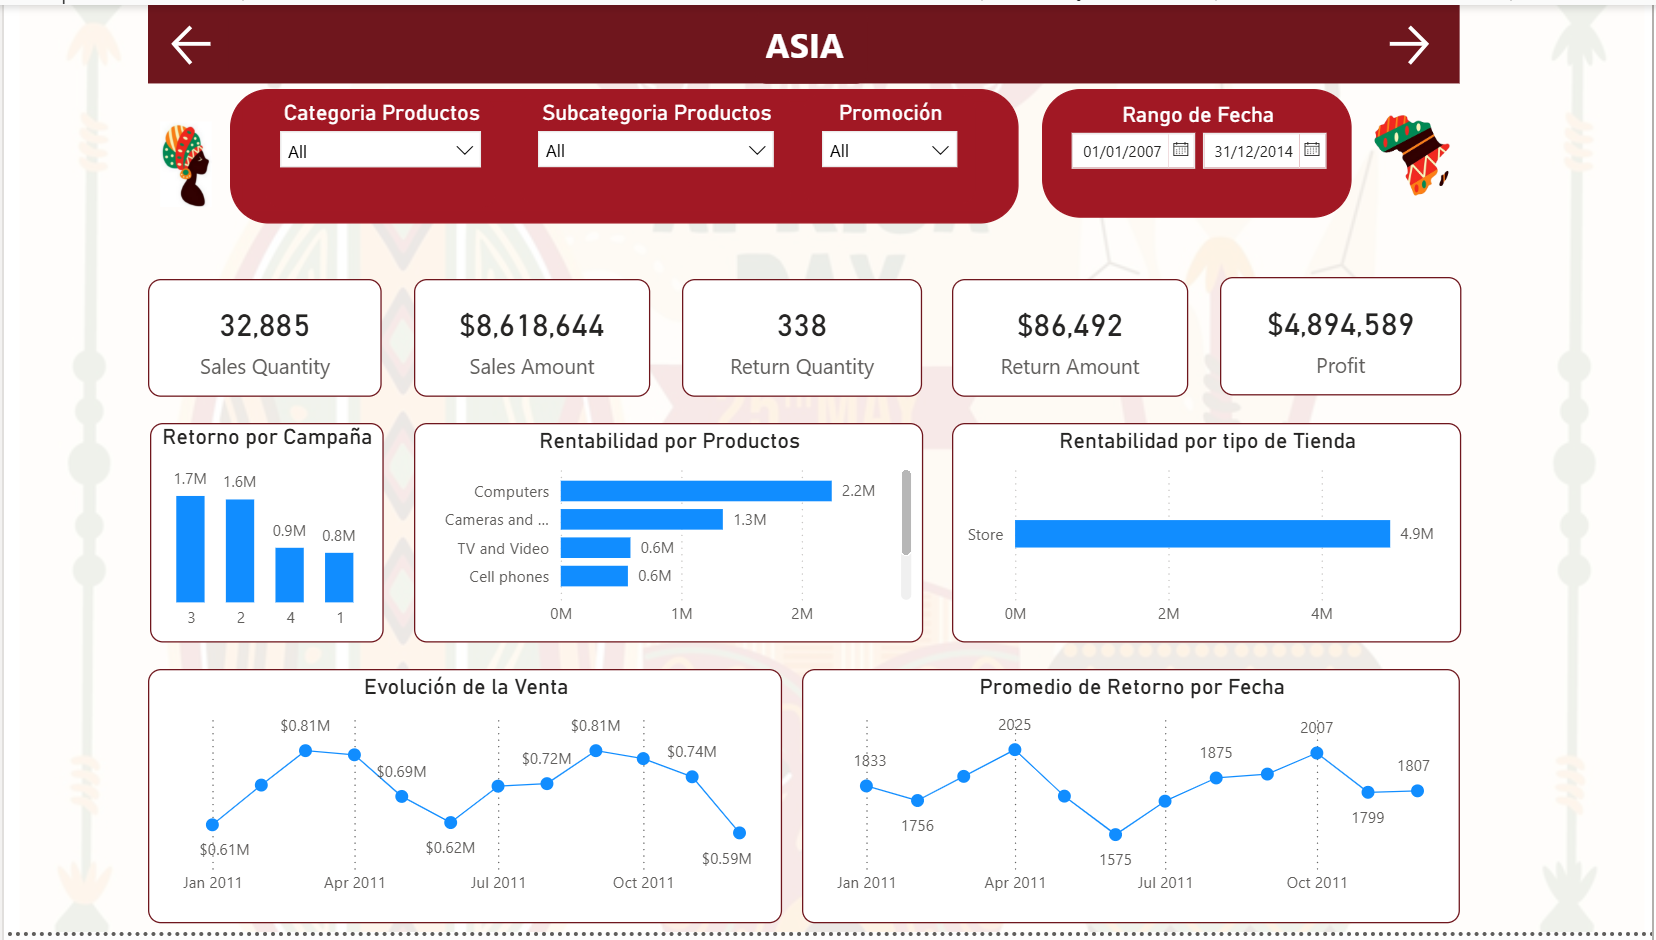

Layout of this report page (visuals, bound fields, positions):
{"tool":"powerbi","page":{"name":"Asia","canvas":[1280,720],"ordinal":1},"visuals":[{"type":"shape","box":[175,65.6,612.5,104.7],"z":0},{"type":"shape","box":[112.5,0,1018.8,60.9],"z":1000},{"type":"card","fields":{"Values":["Sum(SALES.SalesQuantity)"]},"box":[112.4,212.3,181.7,91.7],"z":2000},{"type":"image","box":[1054.7,79.7,76.6,76.6],"z":3000},{"type":"textbox","box":[582.8,3.1,89.1,57.8],"z":4000},{"type":"card","fields":{"Values":["Sum(SALES.ReturnQuantity)"]},"box":[527.1,212.3,186.4,91.7],"z":5000},{"type":"image","box":[112.5,85.9,59.4,76.6],"z":6000},{"type":"card","fields":{"Values":["Sum(SALES.ReturnAmount)"]},"box":[736.8,212.3,183.3,91.7],"z":7000},{"type":"card","fields":{"Values":["Sum(SALES.SalesAmount)"]},"box":[319,212.3,183.3,91.7],"z":8000},{"type":"card","fields":{"Values":["MEDIDAS.Profit"]},"box":[943.8,210.9,187.5,92.2],"z":9000},{"type":"columnChart","title":"Retorno por Campaña","fields":{"Category":["SALES.ChannelKey"],"Y":["Sum(SALES.Profit)"]},"box":[113.1,324.1,181.2,170.3],"z":10000},{"type":"lineChart","title":"Evolución de la Venta","fields":{"Y":["Sum(SALES.SalesAmount)"],"Category":["SALES.DateKey.Variation.Date Hierarchy.Year"]},"box":[112.4,515.2,492.4,197.3],"z":11000},{"type":"barChart","title":"Rentabilidad por Productos","fields":{"Category":["PRODUCT COMPLETE.ProductCategory"],"Y":["Sum(SALES.Profit)"]},"box":[317.7,324.1,395.3,170.3],"z":12000},{"type":"lineChart","title":"Promedio de Retorno por Fecha","fields":{"Y":["Avg(SALES.Profit)"],"Category":["SALES.DateKey.Variation.Date Hierarchy.Year"]},"box":[620.3,515.2,511.1,197.3],"z":13000},{"type":"barChart","title":"Rentabilidad por tipo de Tienda","fields":{"Category":["STORES GEOGRAPHY.StoreType"],"Y":["Sum(SALES.Profit)"]},"box":[736.5,324.1,395.3,170.3],"z":14000},{"type":"slicer","title":"Subcategoria Productos","fields":{"Values":["PRODUCT COMPLETE.ProductSubcategory"]},"box":[400,70.3,210.9,84.4],"z":15000},{"type":"slicer","title":"Rango de Fecha","fields":{"Values":["CALENDARIO.Date"]},"box":[806.2,65.6,240.6,100],"z":16000},{"type":"slicer","title":"Categoria Productos","fields":{"Values":["PRODUCT COMPLETE.ProductCategory"]},"box":[203.1,73.4,178.1,84.4],"z":17000},{"type":"slicer","title":"Promoción","fields":{"Values":["PROMOTION.PromotionName"]},"box":[621.9,70.3,132.8,84.4],"z":18000},{"type":"actionButton","box":[1070.3,10.9,46.9,40.6],"z":19000},{"type":"actionButton","box":[126.6,10.9,48.4,40.6],"z":20000}]}

Visuals, with their boxes in screenshot pixels (x1, y1, x2, y2), scaled from the page's 1280x720 canvas onto the 1656x940 screenshot:
shape: region(226, 86, 1019, 222)
shape: region(146, 0, 1464, 80)
card - Sum(SALES.SalesQuantity): region(145, 277, 380, 397)
image: region(1365, 104, 1464, 204)
textbox: region(754, 4, 869, 80)
card - Sum(SALES.ReturnQuantity): region(682, 277, 923, 397)
image: region(146, 112, 222, 212)
card - Sum(SALES.ReturnAmount): region(953, 277, 1190, 397)
card - Sum(SALES.SalesAmount): region(413, 277, 650, 397)
card - MEDIDAS.Profit: region(1221, 275, 1464, 396)
"Retorno por Campaña" columnChart: region(146, 423, 381, 645)
"Evolución de la Venta" lineChart: region(145, 673, 782, 930)
"Rentabilidad por Productos" barChart: region(411, 423, 922, 645)
"Promedio de Retorno por Fecha" lineChart: region(803, 673, 1464, 930)
"Rentabilidad por tipo de Tienda" barChart: region(953, 423, 1464, 645)
"Subcategoria Productos" slicer: region(518, 92, 790, 202)
"Rango de Fecha" slicer: region(1043, 86, 1354, 216)
"Categoria Productos" slicer: region(263, 96, 493, 206)
"Promoción" slicer: region(805, 92, 976, 202)
actionButton: region(1385, 14, 1445, 67)
actionButton: region(164, 14, 226, 67)
